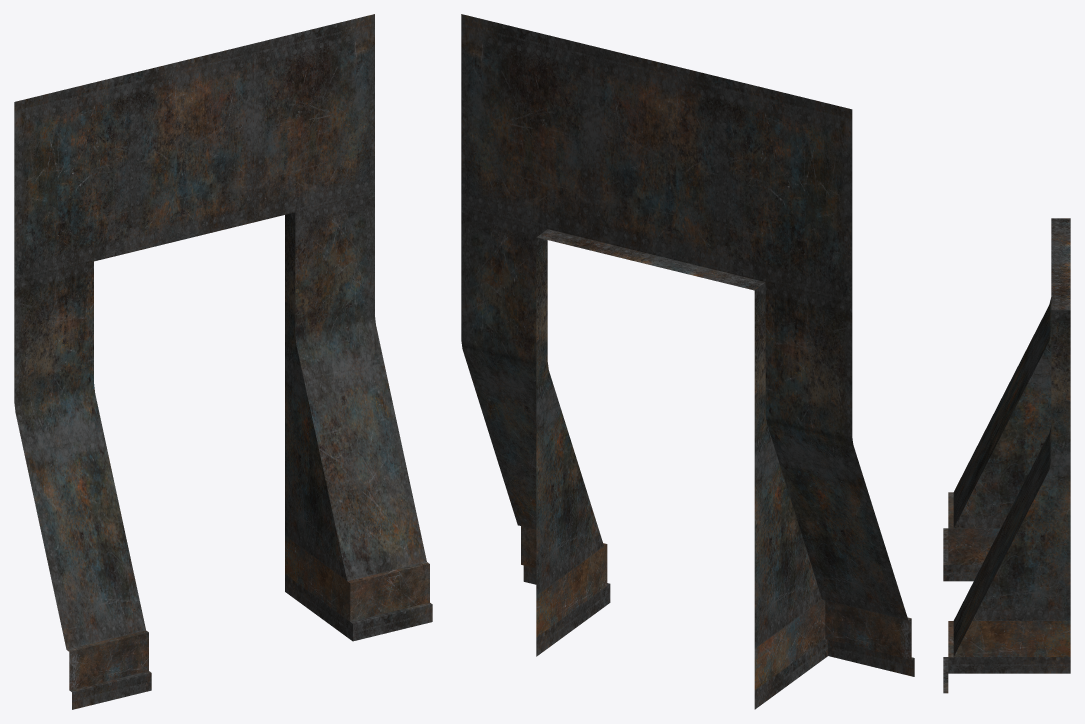
The model's file is Basement_Corridor_C_Wall_2m_Cruved_Door.glb.
The picture shows the model from 3 angles, left to right: view 1: azimuth 30°, elevation 25°; view 2: azimuth 150°, elevation 25°; view 3: azimuth 270°, elevation 25°; orthographic projection. The views are drawn at different scales.
Parts seen in each view (by area): view 1: Basement_Corridor_C_Wall_2m_Cruved_Door; view 2: Basement_Corridor_C_Wall_2m_Cruved_Door; view 3: Basement_Corridor_C_Wall_2m_Cruved_Door.
Boxes of the visible parts, x1,y1,x2,y2 form: Basement_Corridor_C_Wall_2m_Cruved_Door: (14,14,432,709); Basement_Corridor_C_Wall_2m_Cruved_Door: (461,14,914,709); Basement_Corridor_C_Wall_2m_Cruved_Door: (943,218,1070,693).
Bounding box in the file's own units: 2 × 3 × 0.6533.
2 materials, 2 textured.
